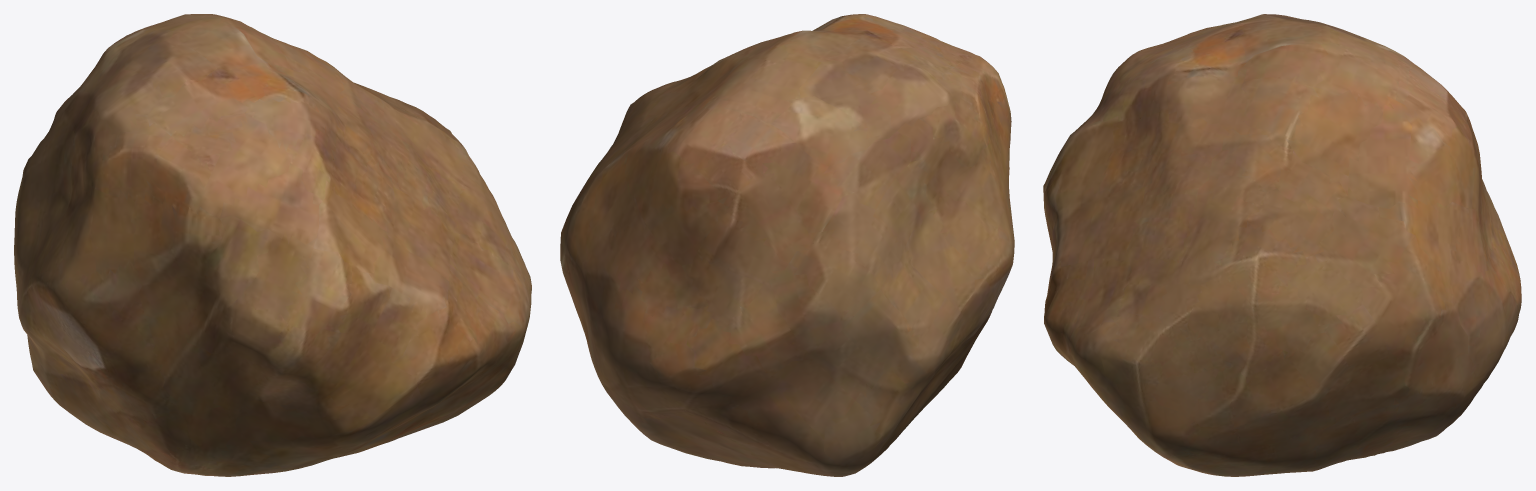
Rendered from Meshy_AI_Rock_Item_0224030036_texture.glb.
3 views of the same model, side by side, from view 1: azimuth 30°, elevation 25°; view 2: azimuth 150°, elevation 25°; view 3: azimuth 270°, elevation 25° (orthographic). The views are drawn at different scales.
Size of the model in its own units: 1.85 by 1.82 by 1.99.
1 material, 1 textured.
